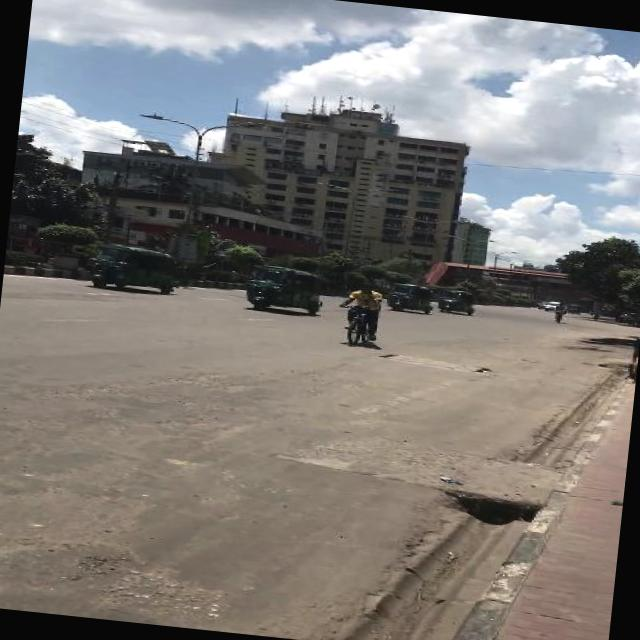motorcycle: (82, 239, 180, 294), (241, 262, 325, 316), (384, 279, 431, 312), (436, 285, 476, 314)
